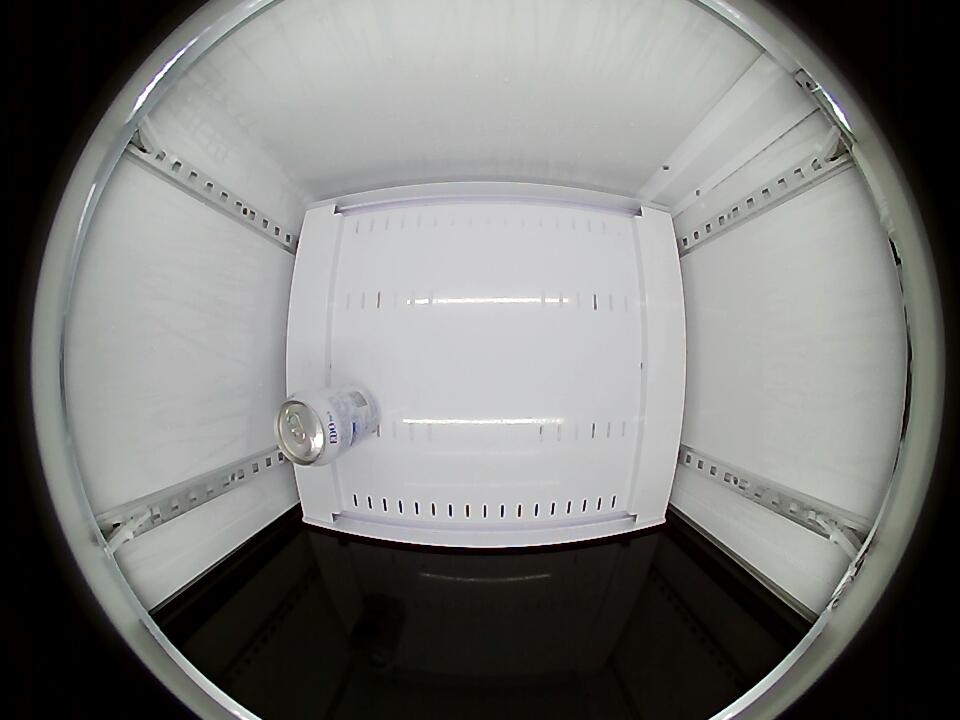rusuanjunqishui: (274, 393, 346, 467)
